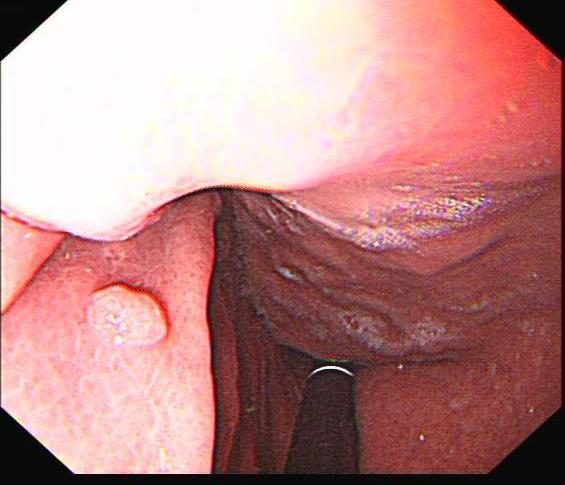Polyp: (89, 285, 170, 355)
